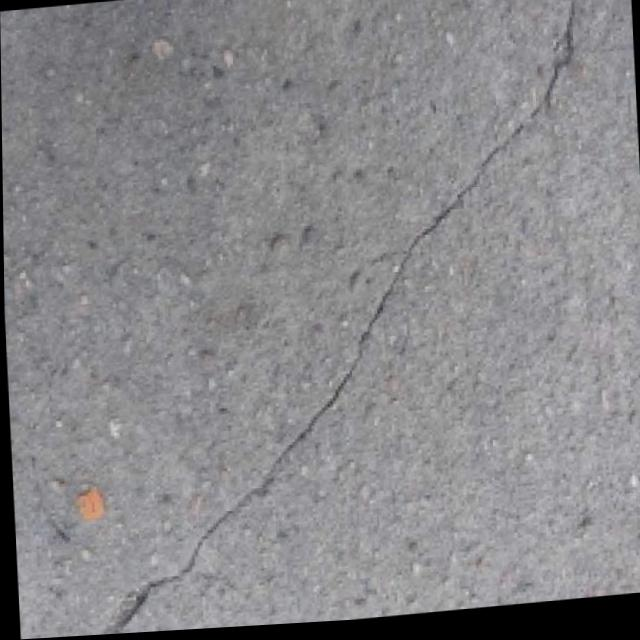Crack: (77, 0, 620, 636)
